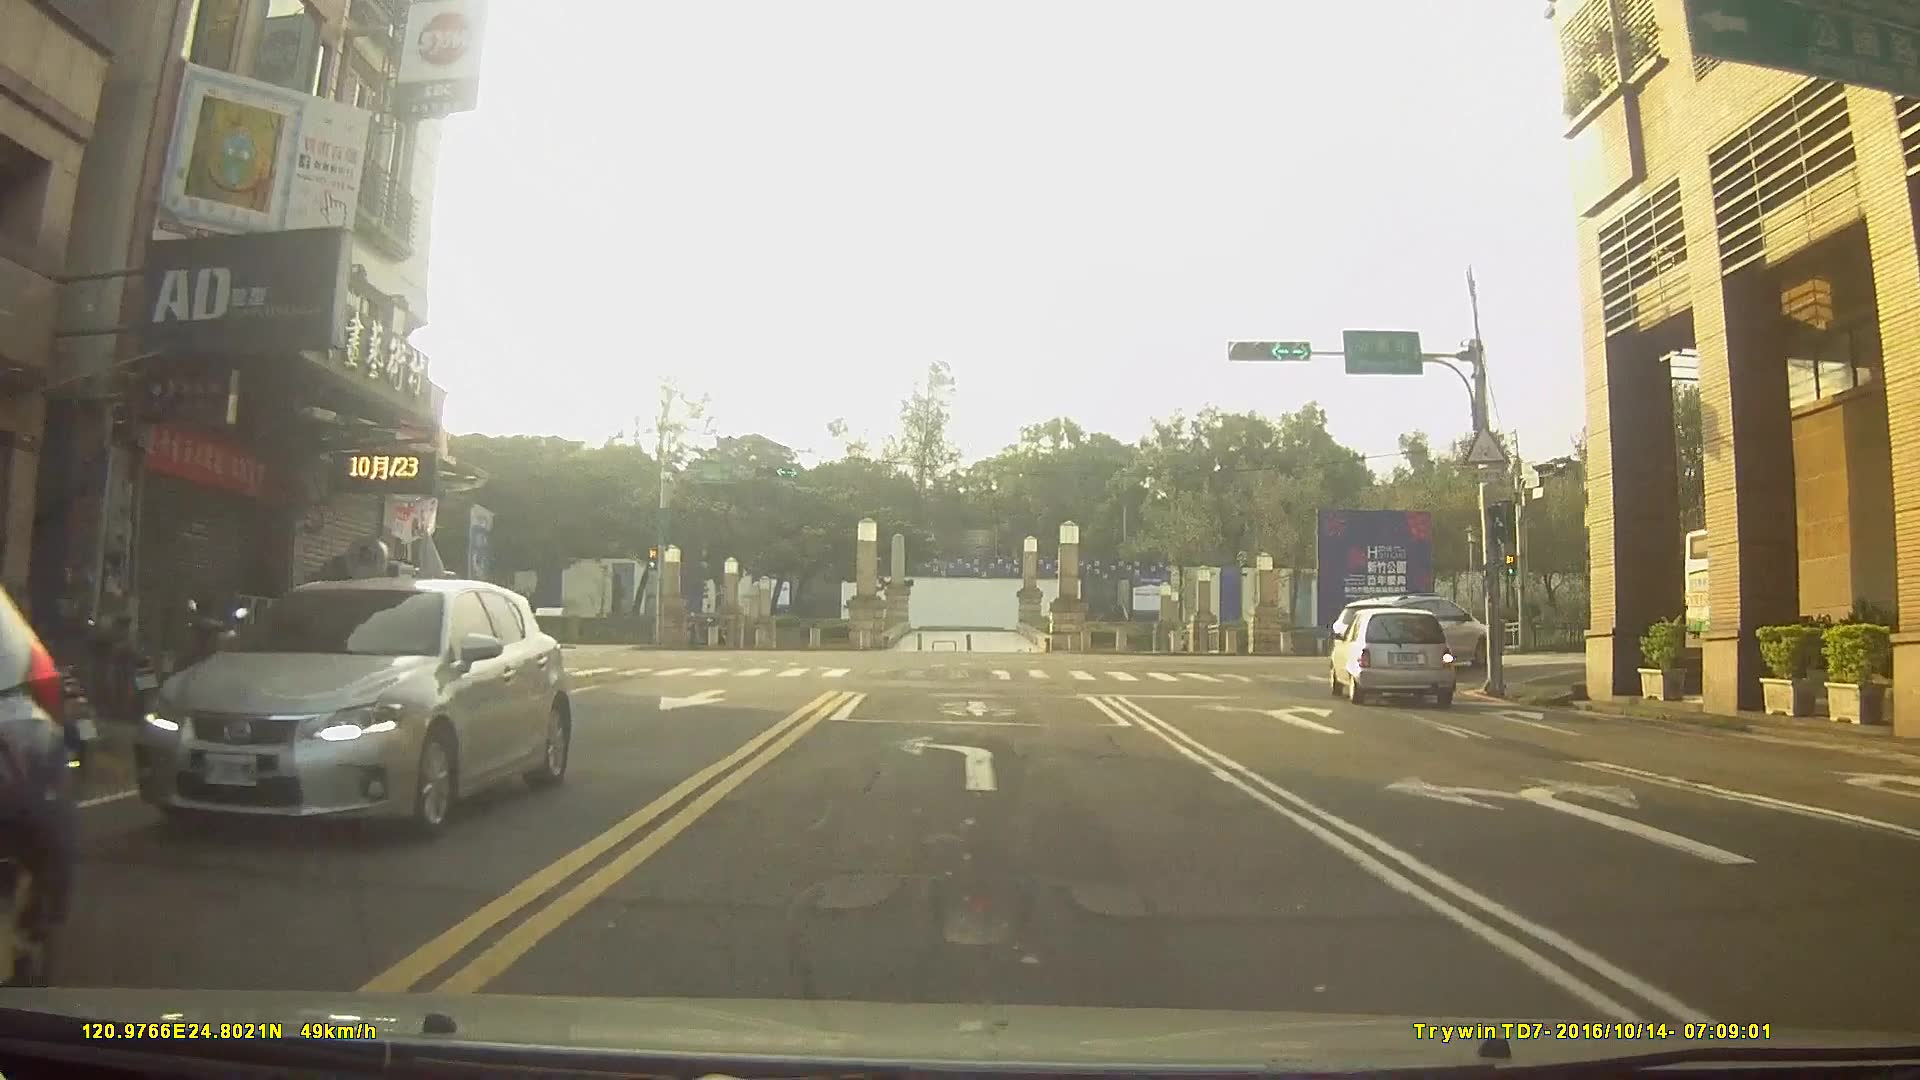vehicle: (133, 578, 567, 836), (1332, 592, 1491, 674), (1327, 608, 1456, 707)
